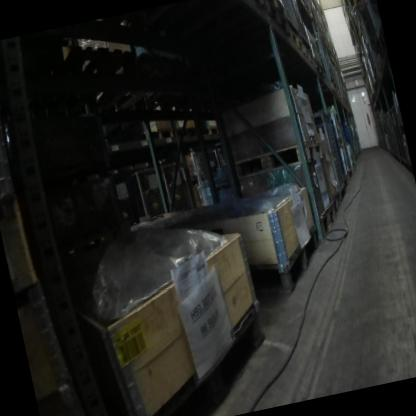pallet: (108, 294, 281, 416), (38, 37, 147, 144), (244, 222, 332, 305), (232, 134, 329, 184), (303, 201, 340, 246), (264, 0, 295, 43), (137, 121, 178, 148), (321, 190, 344, 220), (347, 0, 370, 28), (288, 23, 306, 57), (199, 122, 225, 144), (309, 55, 327, 84), (238, 0, 266, 17), (265, 0, 293, 16), (372, 46, 387, 74), (302, 42, 314, 68), (291, 0, 310, 16)
stillage: (305, 105, 353, 208), (124, 150, 175, 230), (186, 139, 235, 216), (96, 166, 147, 231), (161, 156, 200, 231), (385, 94, 411, 168), (328, 112, 356, 179), (378, 103, 404, 167), (341, 114, 358, 170)
